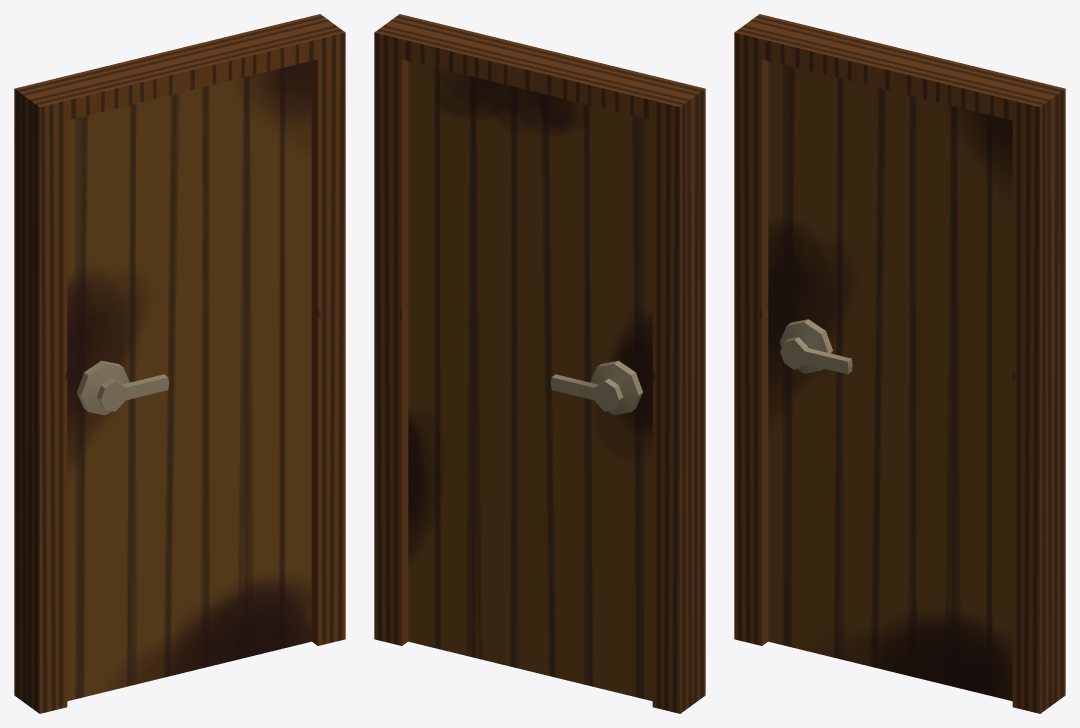
Rendered from Dirty door.glb.
The picture shows the model from 3 angles, left to right: view 1: azimuth 30°, elevation 25°; view 2: azimuth 150°, elevation 25°; view 3: azimuth 330°, elevation 25°; orthographic projection.
Parts seen in each view (by area): view 1: Cube, Cube.001, Cylinder; view 2: Cube, Cube.001, Cylinder; view 3: Cube, Cube.001, Cylinder.
Boxes of the visible parts, x1=… form: Cube: x1=67, y1=61, x2=311, y2=701; Cube.001: x1=14, y1=14, x2=345, y2=713; Cylinder: x1=77, y1=360, x2=169, y2=415; Cube: x1=408, y1=61, x2=652, y2=701; Cube.001: x1=374, y1=14, x2=705, y2=713; Cylinder: x1=550, y1=360, x2=642, y2=415; Cube: x1=768, y1=61, x2=1012, y2=701; Cube.001: x1=734, y1=14, x2=1065, y2=713; Cylinder: x1=779, y1=319, x2=852, y2=374.
Size of the model in its own units: 0.5986 by 1.13 by 0.1383.
3 materials, 2 textured.
